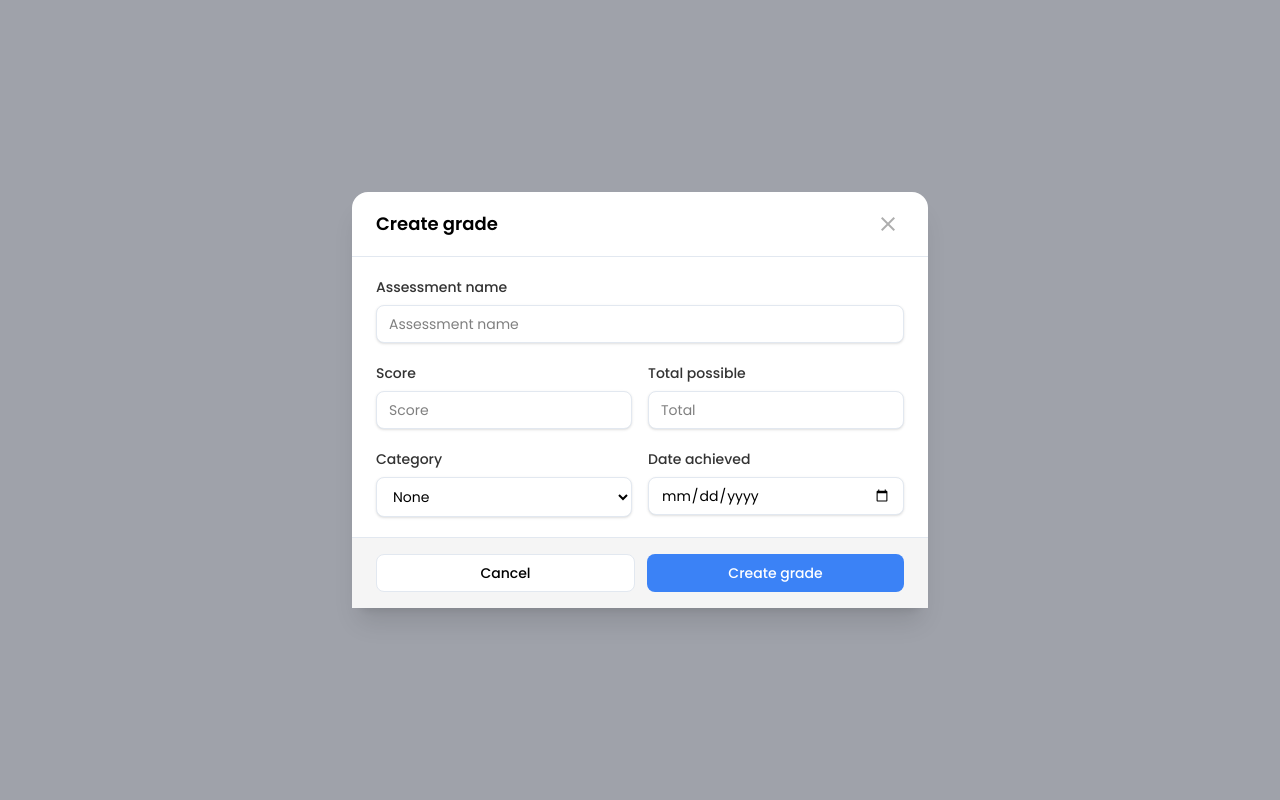
Test: CreateGradeModal Component › displays error when fetch fails during creation
The image size is (1280, 800).
Type "New Grade" into the field with placeholder "Assessment name".
click(640, 324); type("New Grade")  # box top-left (376, 305), bottom-right (904, 343)
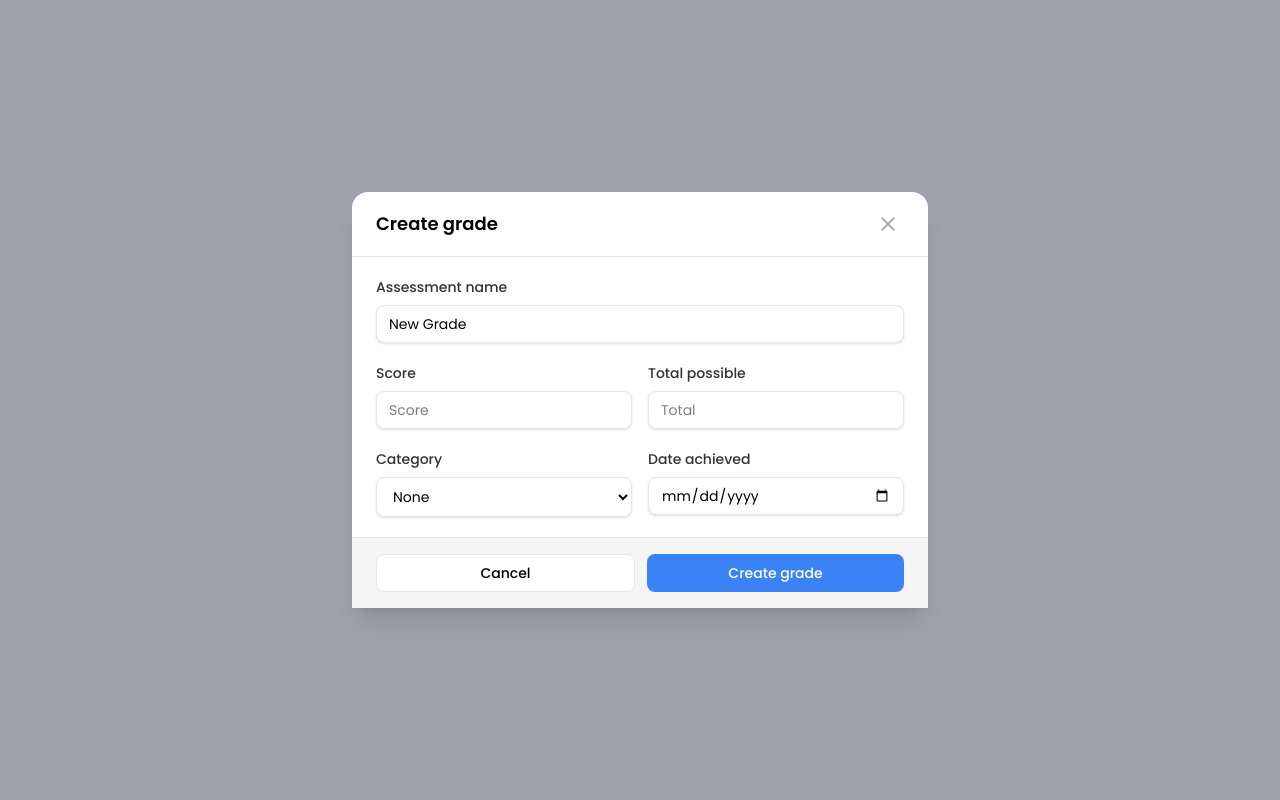
Type "90" into the number field with placeholder "Score".
click(504, 410); type("90")  # box top-left (376, 391), bottom-right (632, 429)
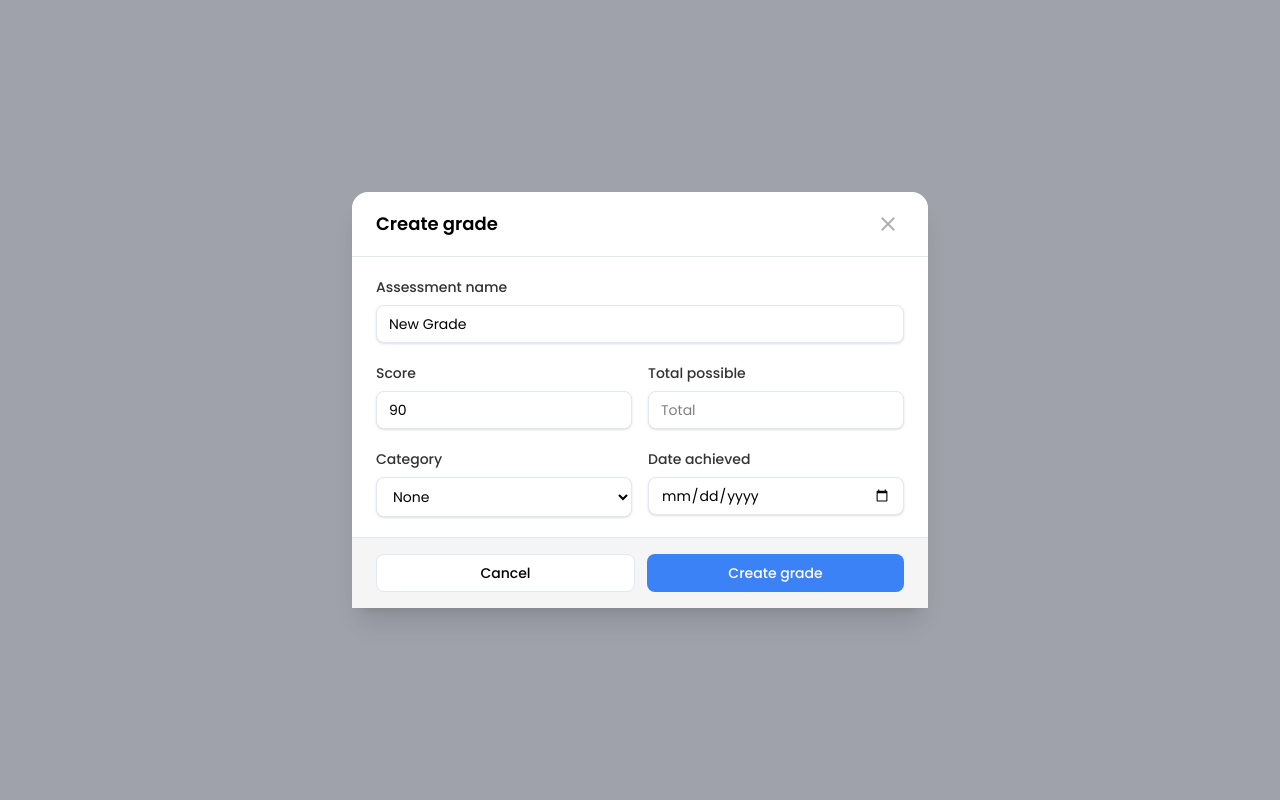
Type "100" into the number field with placeholder "Total".
click(776, 410); type("100")  # box top-left (648, 391), bottom-right (904, 429)
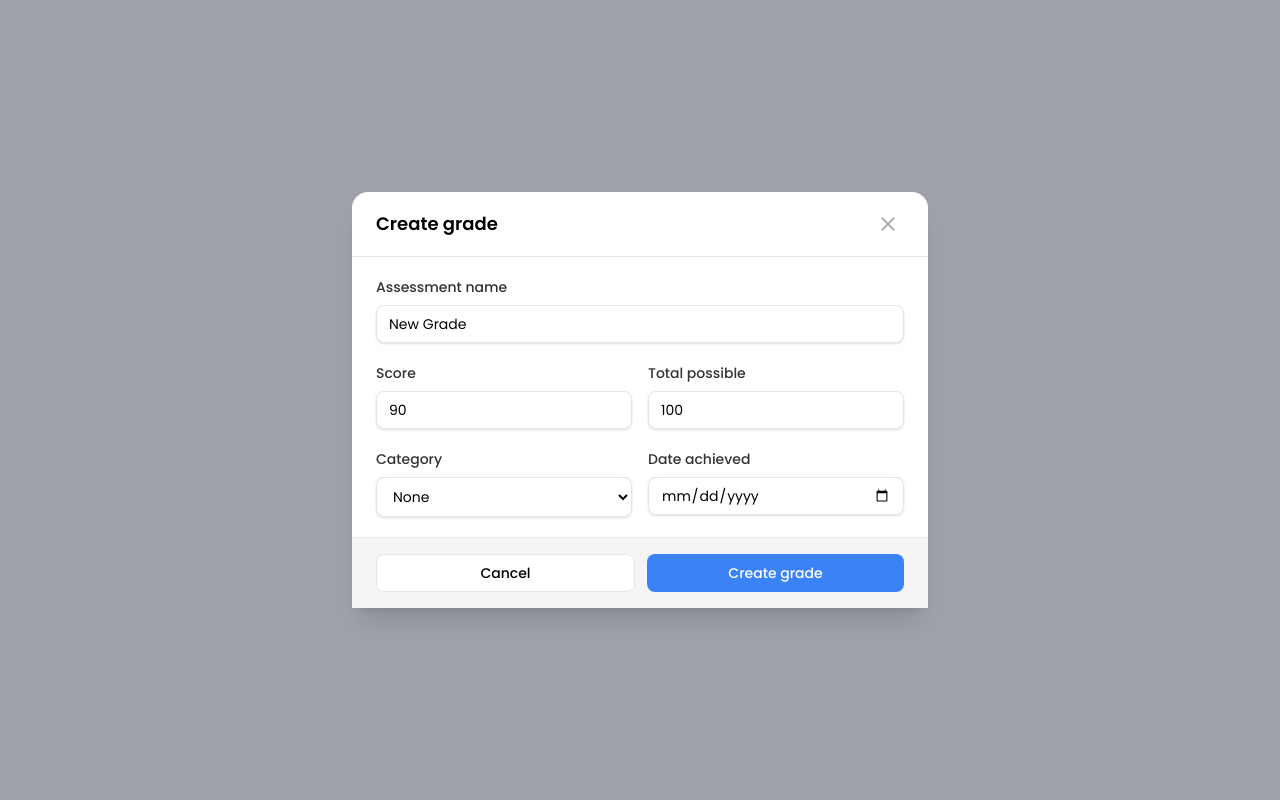
Submit the form from the button "Create grade", box top-left (647, 554), bottom-right (904, 592)
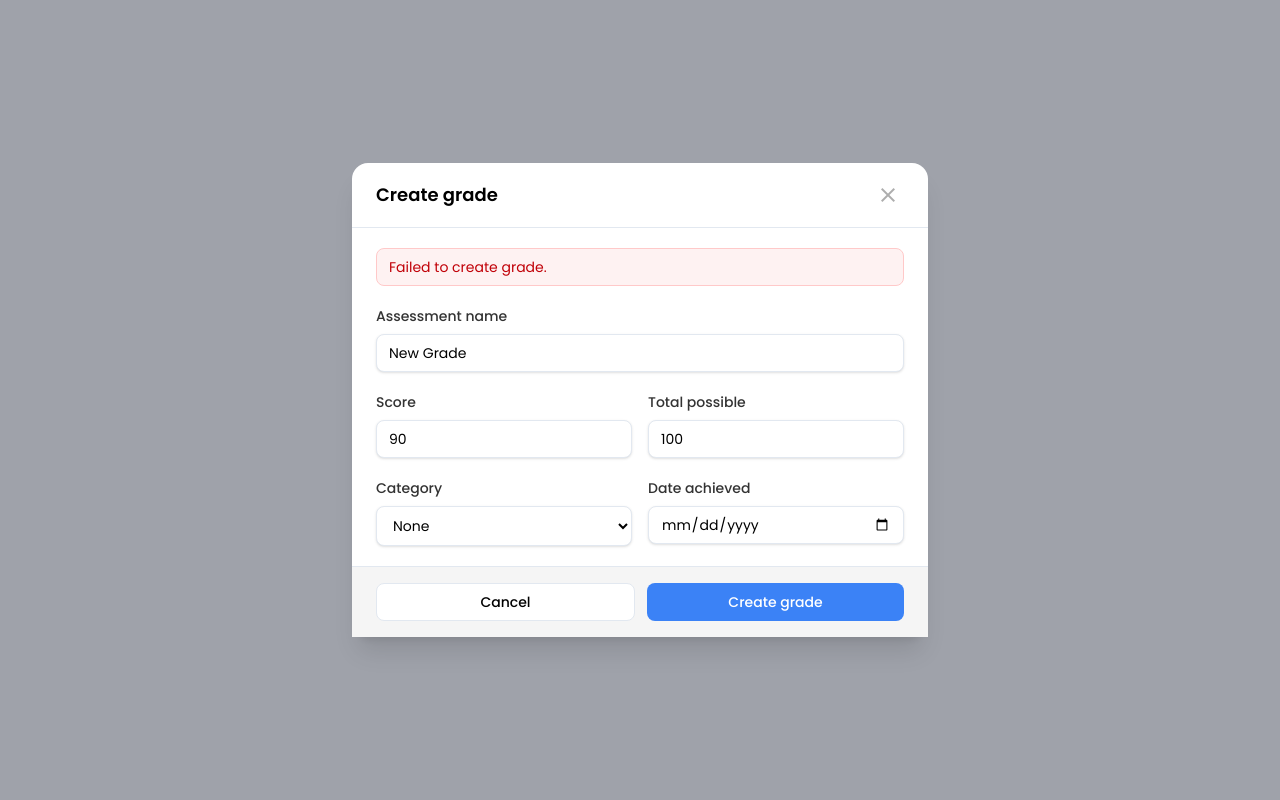
expect the text "Failed to create grade." is shown: met, box top-left (376, 248), bottom-right (904, 286)
